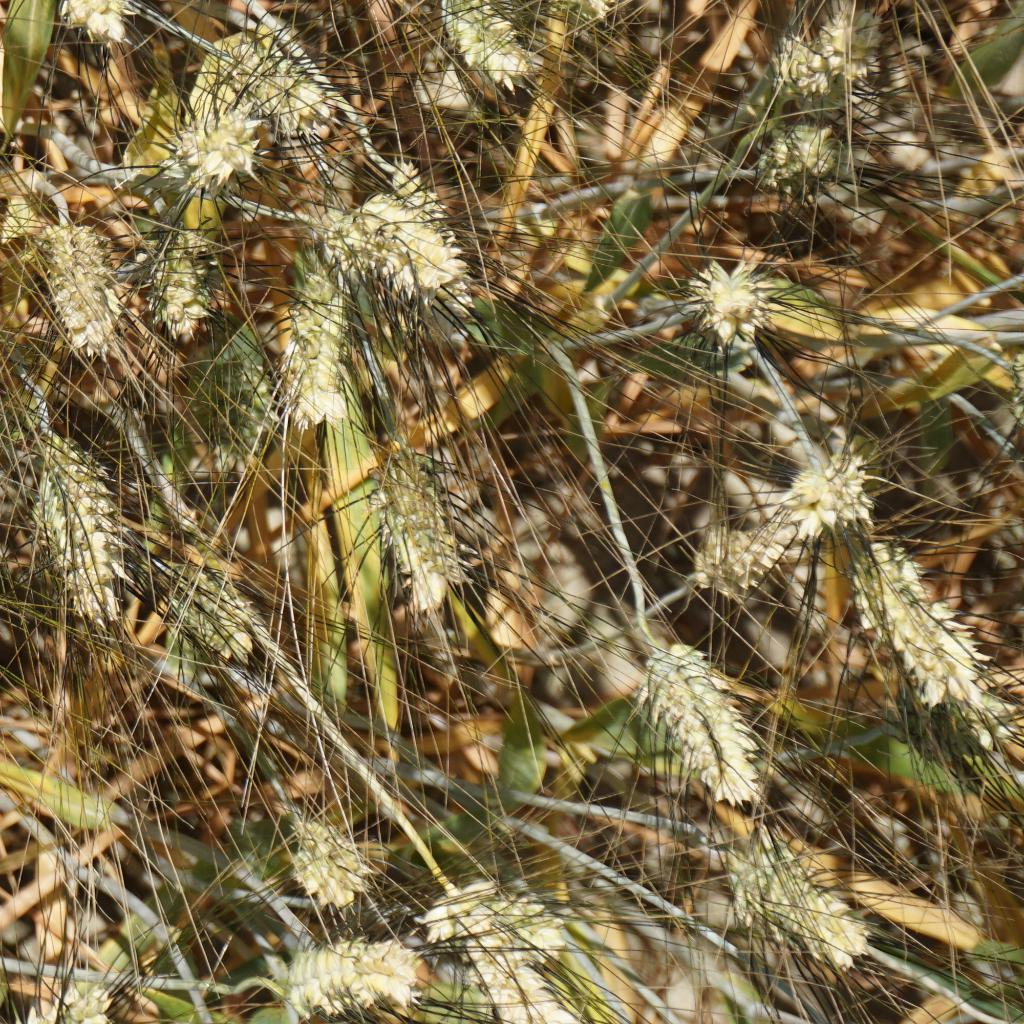0-0: (342, 145, 499, 354), (626, 628, 780, 818), (26, 420, 150, 640), (360, 433, 477, 608), (864, 544, 980, 715), (724, 834, 867, 962), (300, 204, 432, 314), (757, 9, 906, 105), (153, 107, 286, 211), (283, 265, 365, 430), (38, 218, 126, 354), (461, 931, 585, 1024), (147, 550, 254, 656), (439, 875, 570, 961), (678, 253, 781, 361), (275, 935, 417, 1012), (792, 444, 888, 550), (281, 813, 373, 915), (222, 37, 329, 119), (436, 0, 527, 90), (152, 220, 221, 334), (685, 512, 779, 595), (208, 352, 274, 467), (15, 975, 125, 1024), (763, 124, 840, 189), (47, 0, 137, 46)
